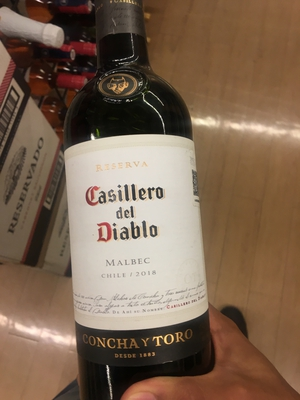casillero del diablo malbec: (47, 35, 223, 394)
